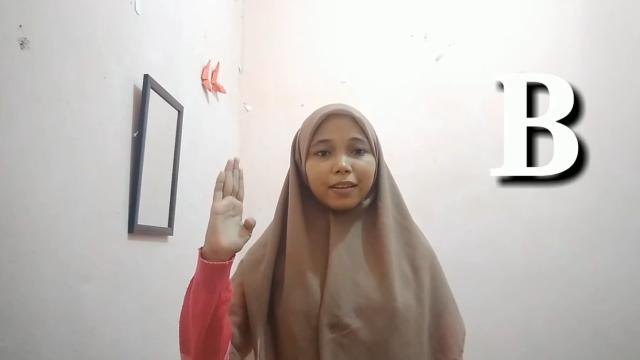B: (210, 156, 256, 252)
